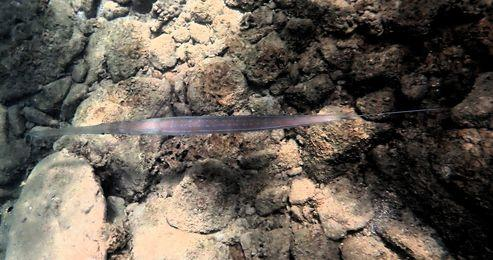Fistularia commersonii: (15, 83, 448, 180)
